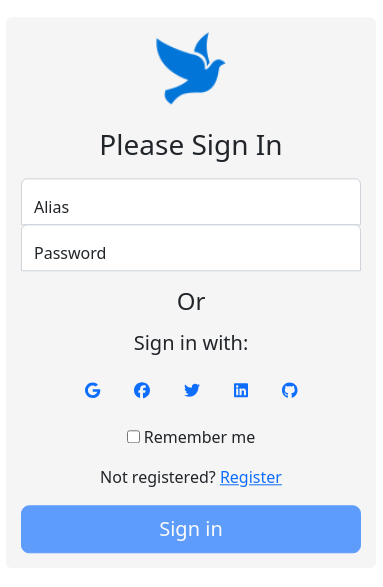
Test: Login Component › disables the sign in button if either field is cleared
Type "alias" into the field labelled "Alias" at (191, 201), box [21, 178, 361, 225]
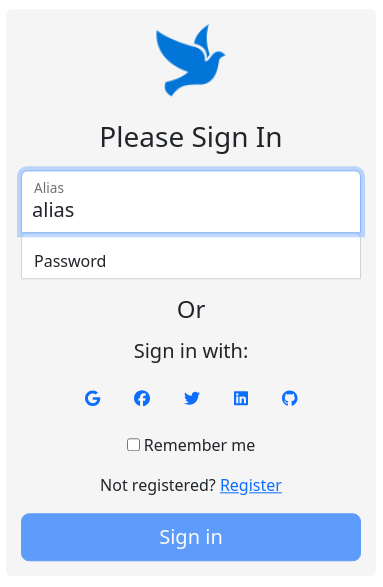
Type "password" into the password field labelled "Password" at (191, 255), box [21, 232, 361, 279]
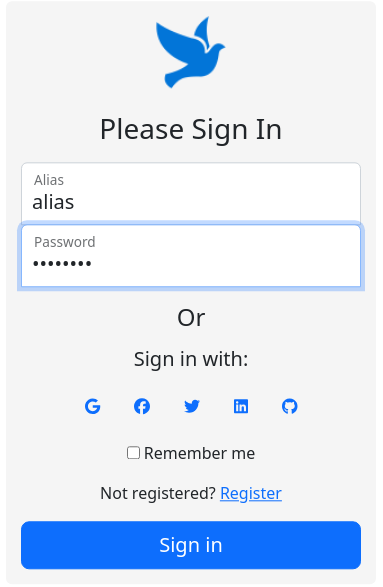
Result: the button "Sign in" is enabled at [21, 522, 361, 570]
Clear the field labelled "Alias" at (191, 193), box [21, 162, 361, 225]
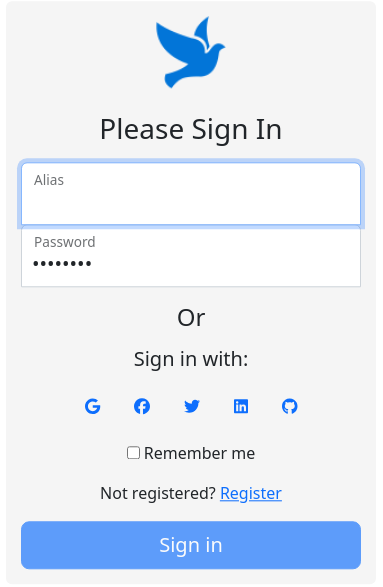
Result: the button "Sign in" is disabled at [21, 522, 361, 570]
Type "alias" into the field labelled "Alias" at (191, 193), box [21, 162, 361, 225]
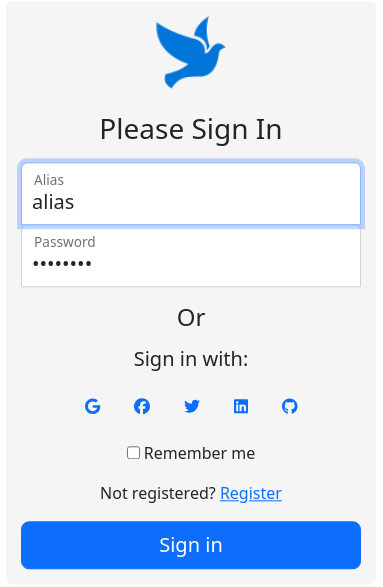
Result: the button "Sign in" is enabled at [21, 522, 361, 570]
Clear the password field labelled "Password" at (191, 255), box [21, 224, 361, 287]
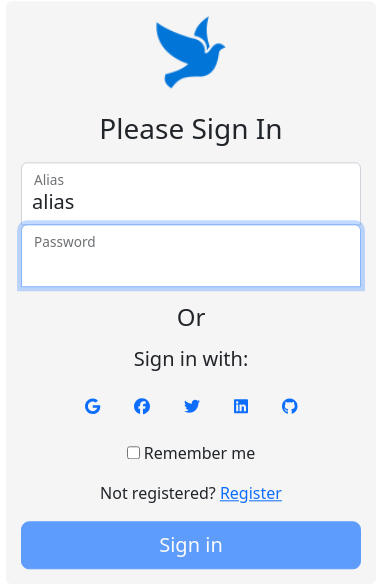
Result: the button "Sign in" is disabled at [21, 522, 361, 570]
